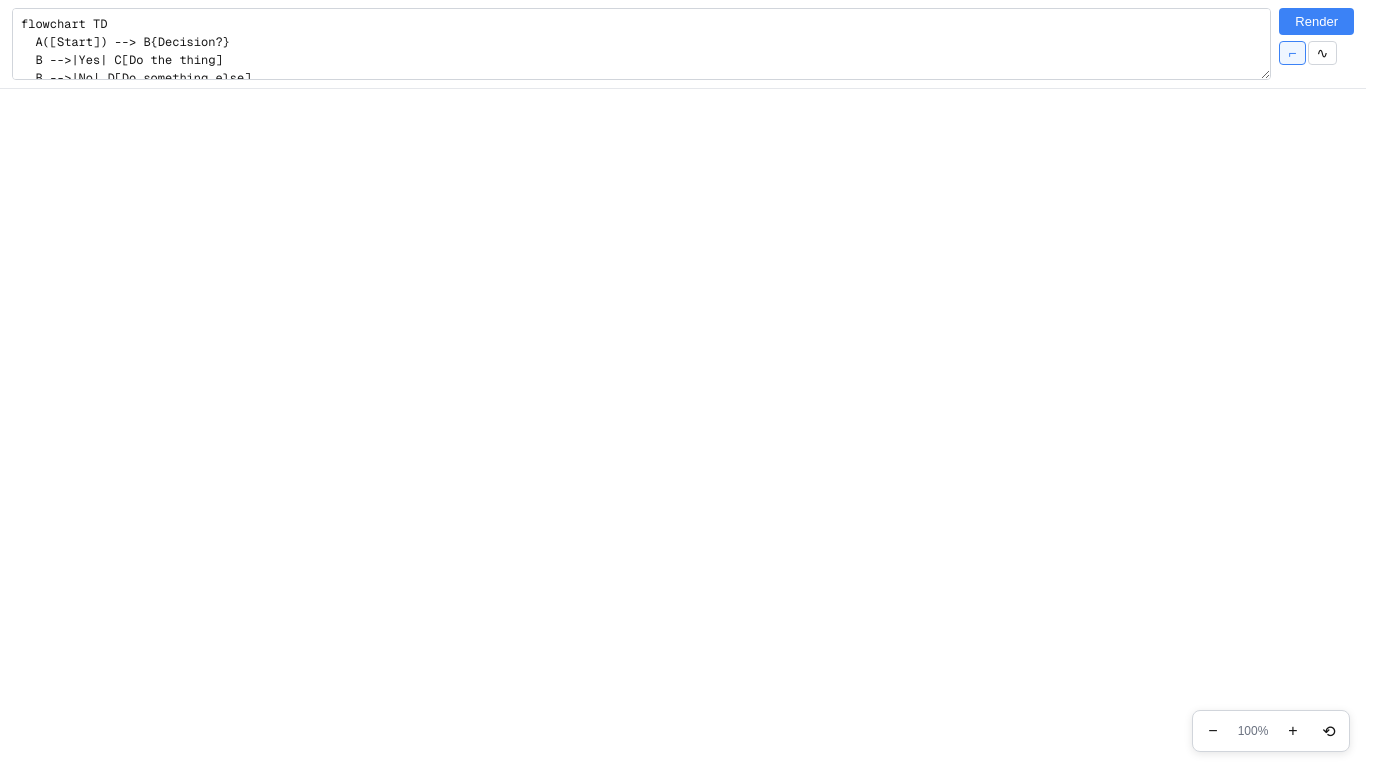
Test: DiagramView › zoom percentage starts at 100% and changes when buttons are clicked
The image size is (1378, 768).
Click the button "Render". click: [1317, 22]
box: 1279,8 -> 1354,35
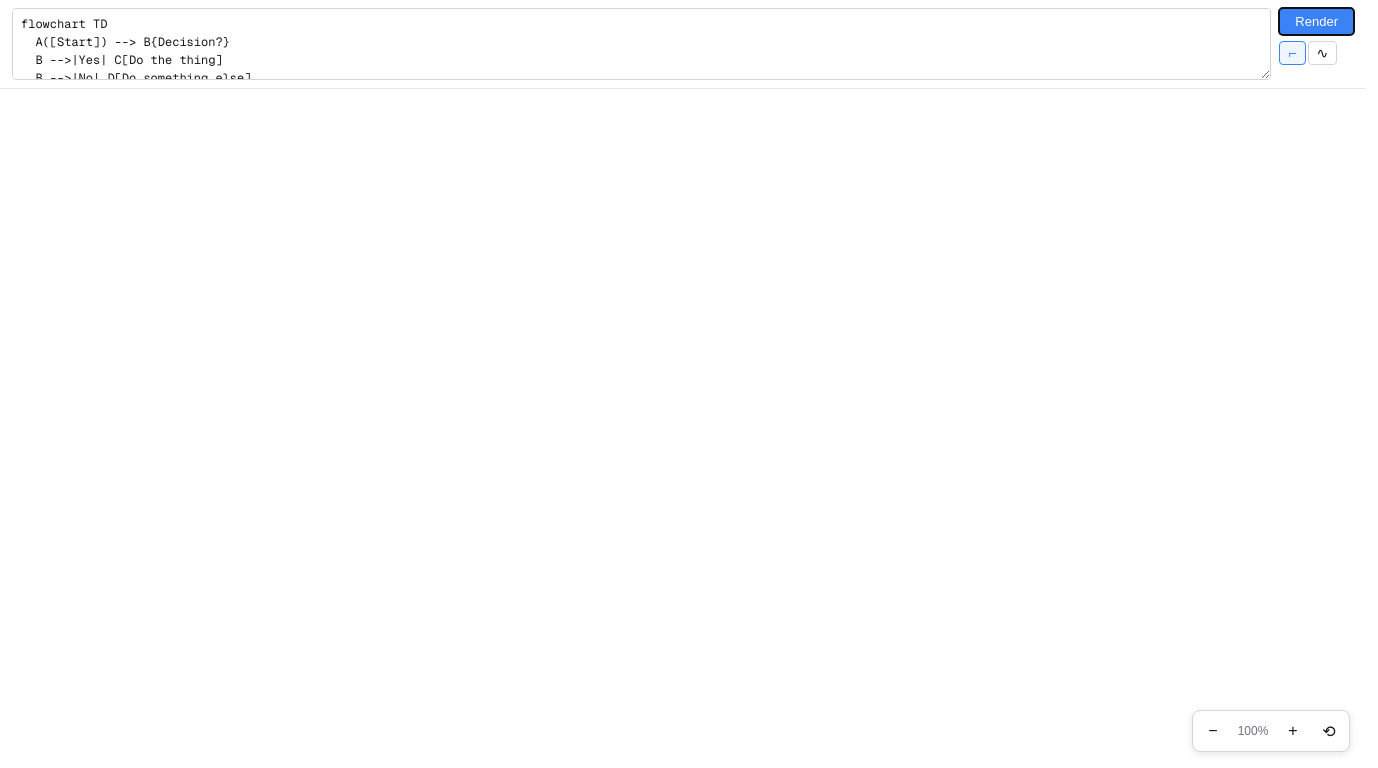
Expected: the text "100%" is shown, 1238,724 -> 1268,738
Click the button named "zoom in". click: [1293, 731]
box: 1277,715 -> 1309,747
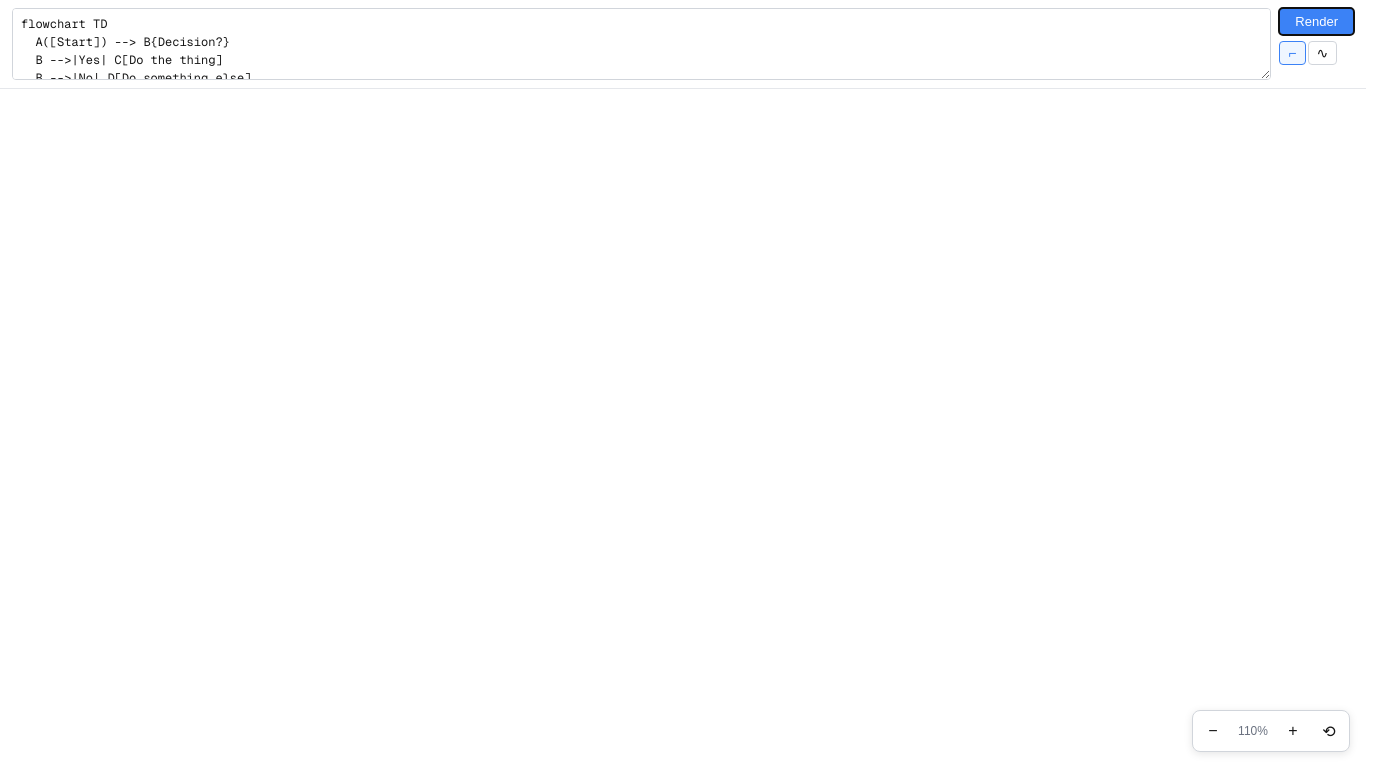
Result: the text "110%" is shown at 1238,724 -> 1268,738
Click the button named "zoom out". click: [1213, 731]
box: 1197,715 -> 1229,747
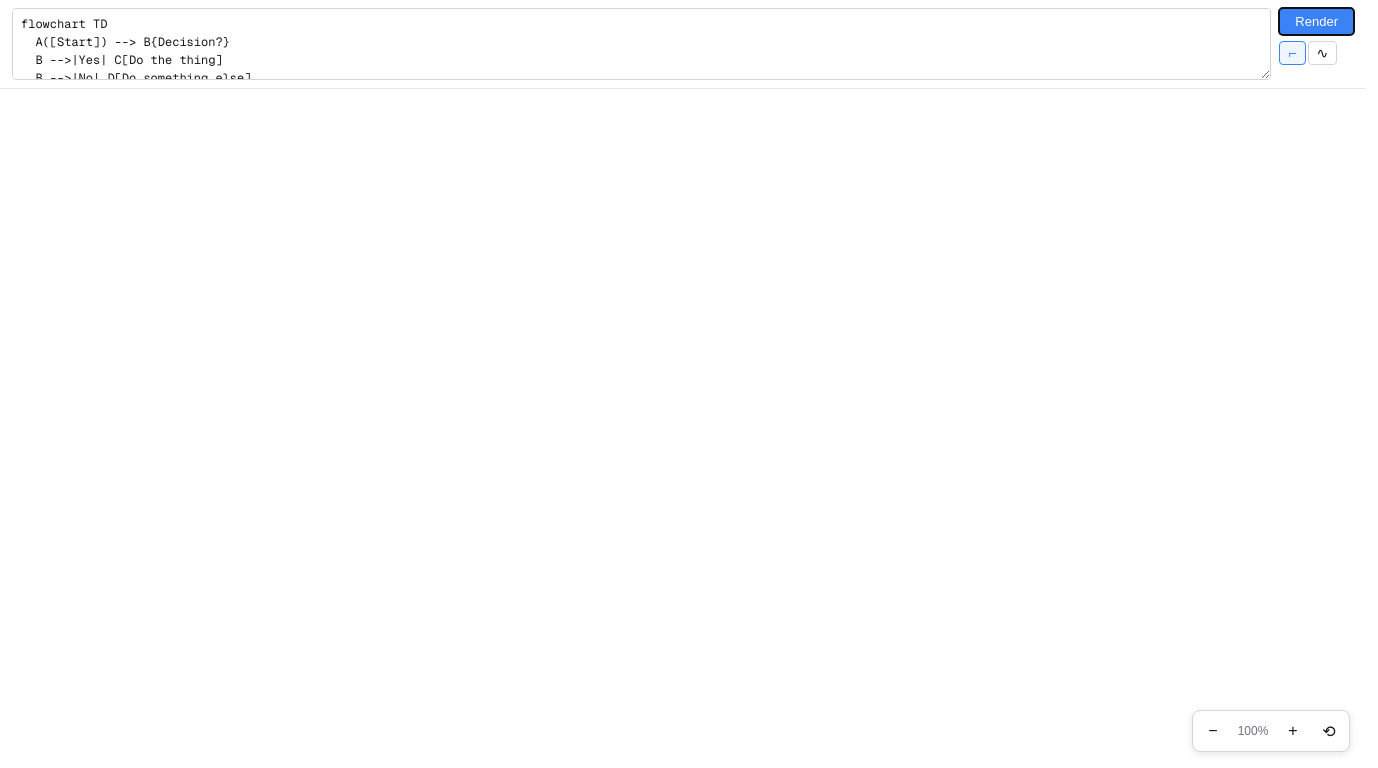
Result: the text "100%" is shown at 1238,724 -> 1268,738
Click the button named "zoom out". click: [1213, 731]
box: 1197,715 -> 1229,747
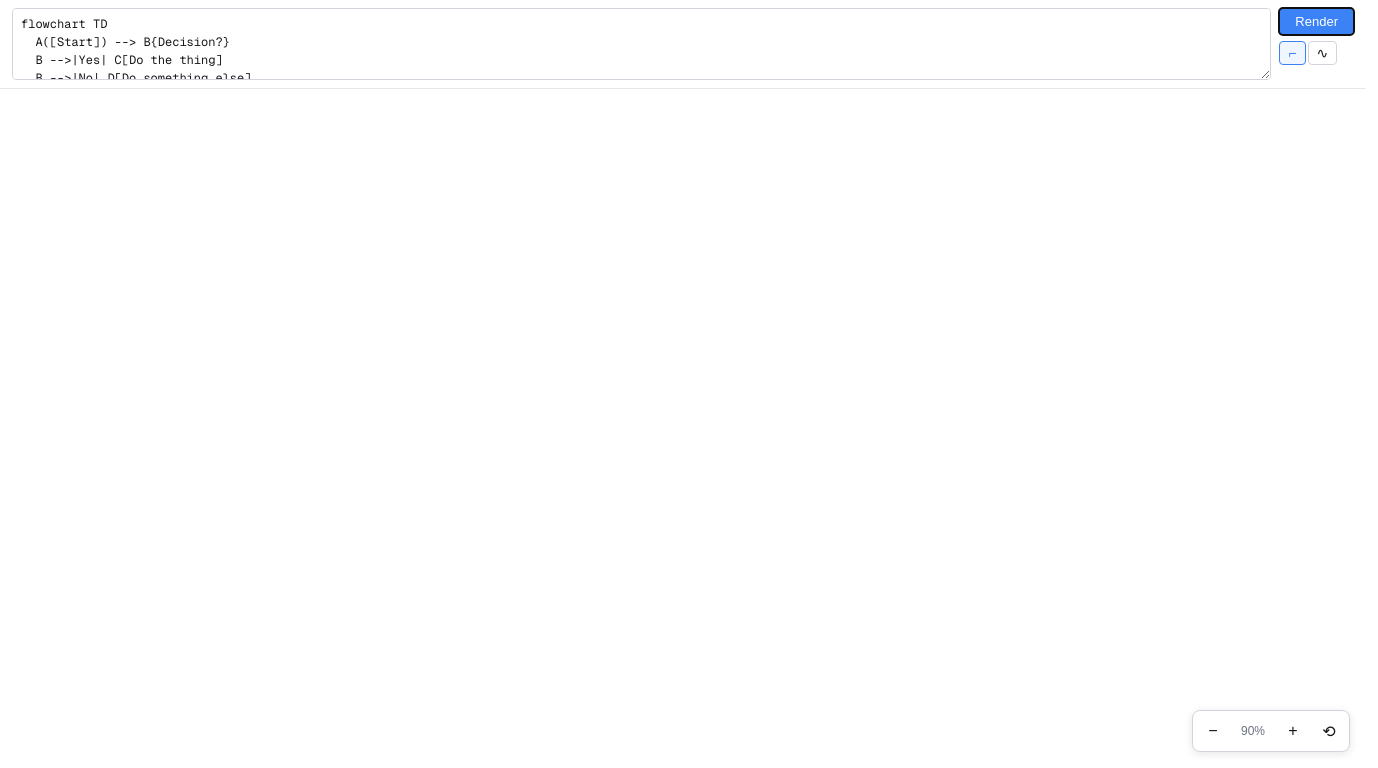
Click the button named "zoom out". click: [1213, 731]
box: 1197,715 -> 1229,747
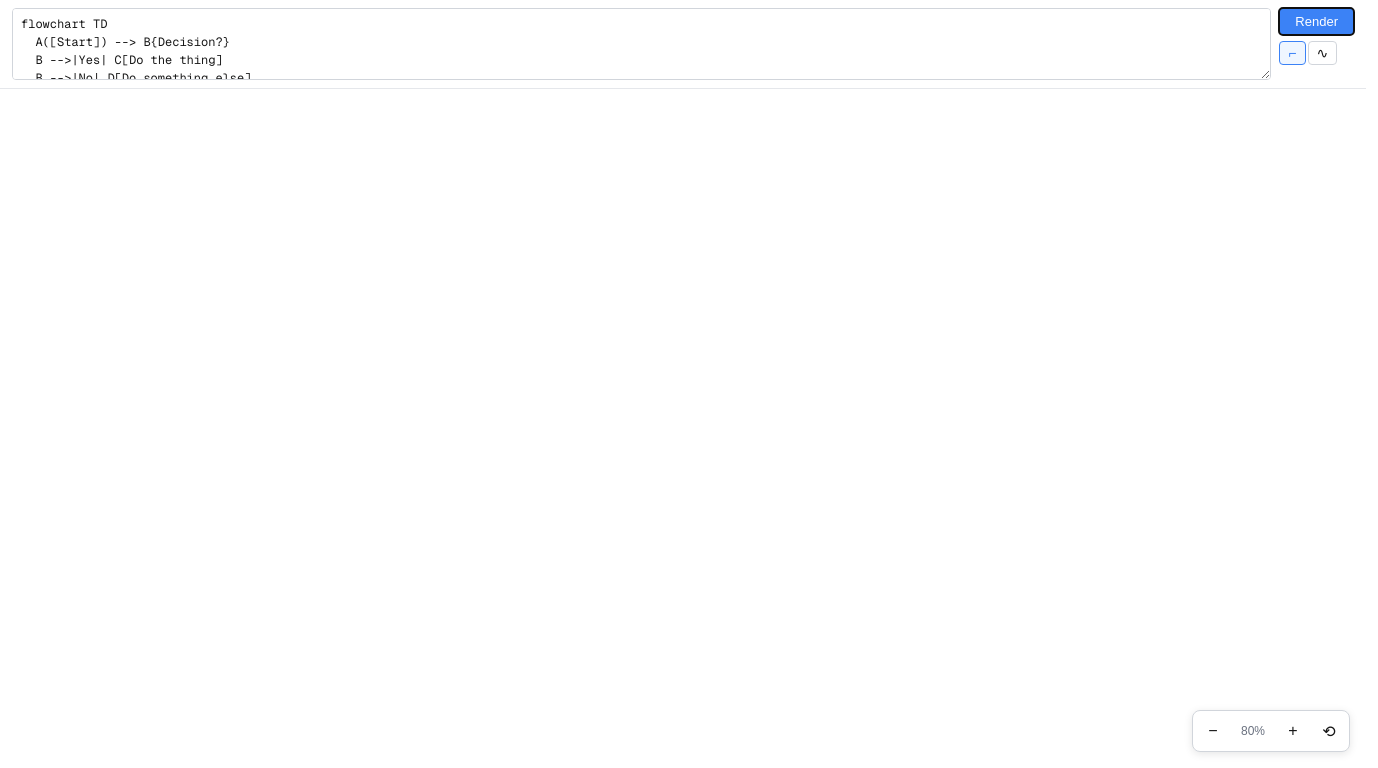
Click the button named "reset zoom". click: [1329, 731]
box: 1313,715 -> 1345,747
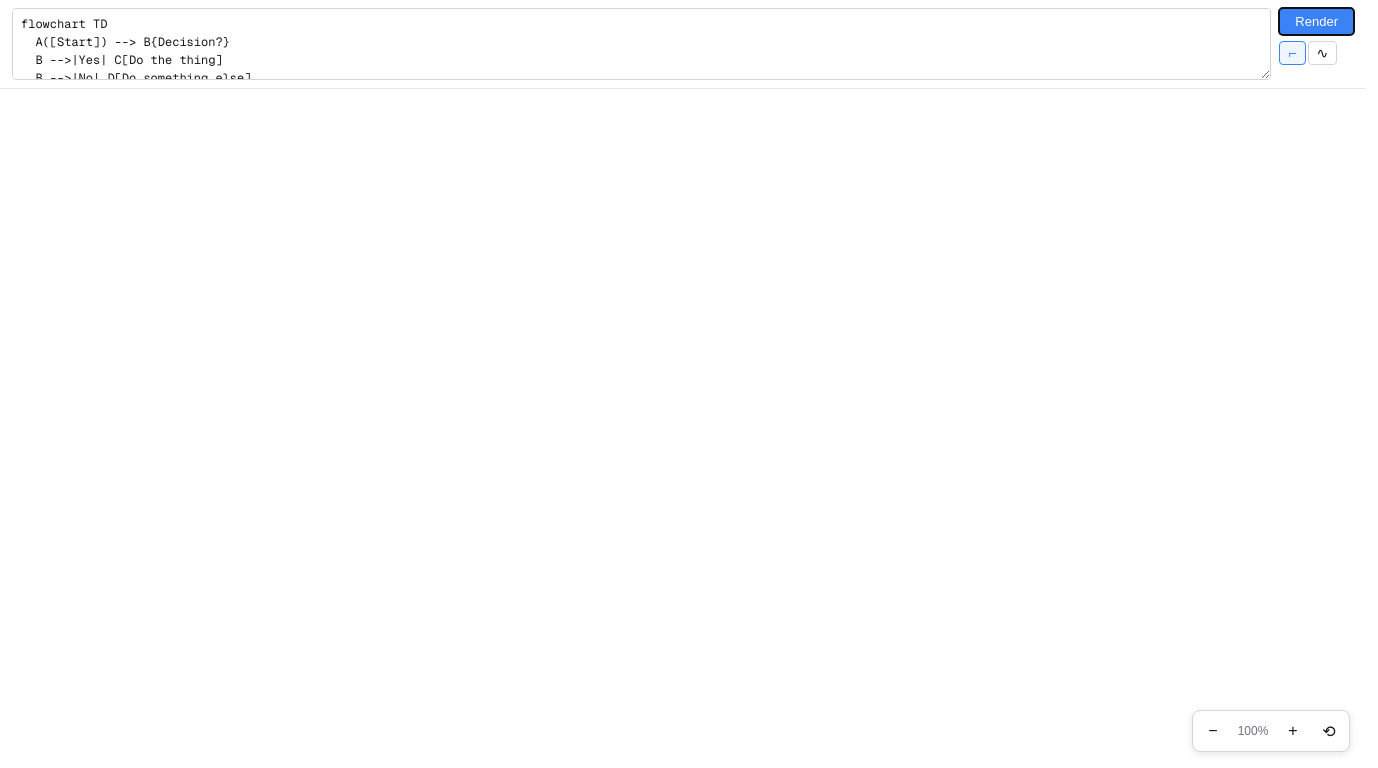
Result: the text "100%" is shown at 1238,724 -> 1268,738
